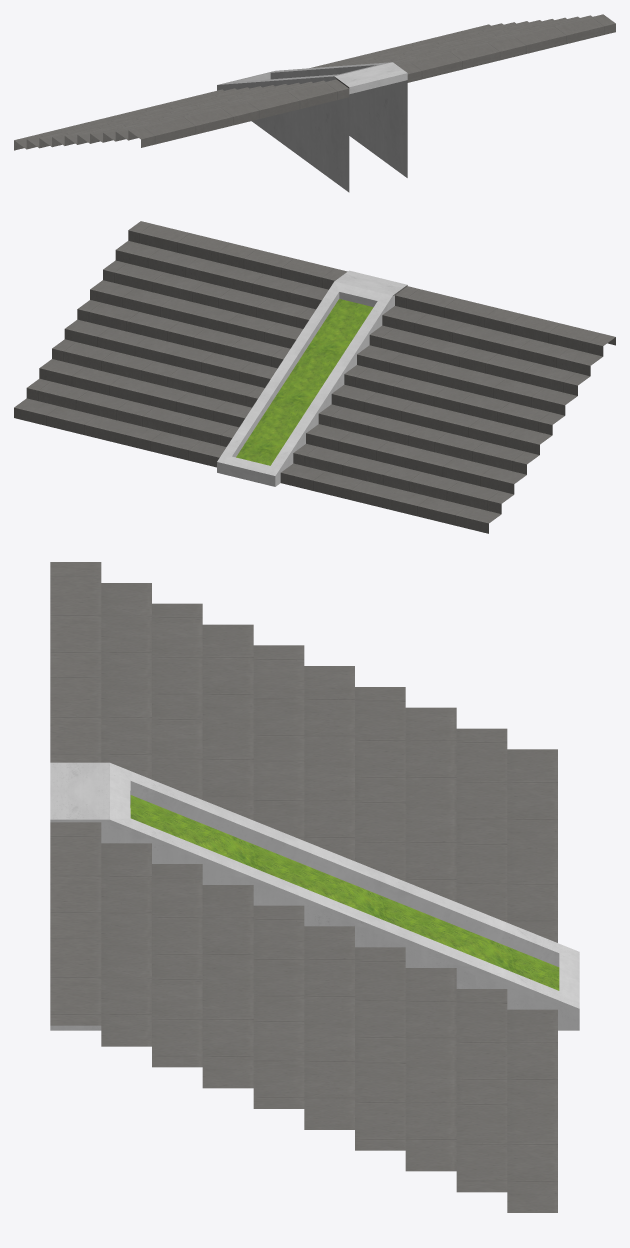
Rendered from BilldingStair_B.fbx.
The picture shows the model from 3 angles, top to bottom: view 1: azimuth 30°, elevation 25°; view 2: azimuth 150°, elevation 25°; view 3: azimuth 270°, elevation 25°; orthographic projection. The views are drawn at different scales.
Parts seen in each view (by area): view 1: BilldingStair_B; view 2: BilldingStair_B; view 3: BilldingStair_B.
Part boxes in pixels (bbox=[...]): BilldingStair_B: bbox=[14, 14, 615, 192]; BilldingStair_B: bbox=[14, 221, 615, 533]; BilldingStair_B: bbox=[50, 562, 579, 1212].
Bounding box in the file's own units: 1242 × 263 × 599.
3 materials, 3 textured.
